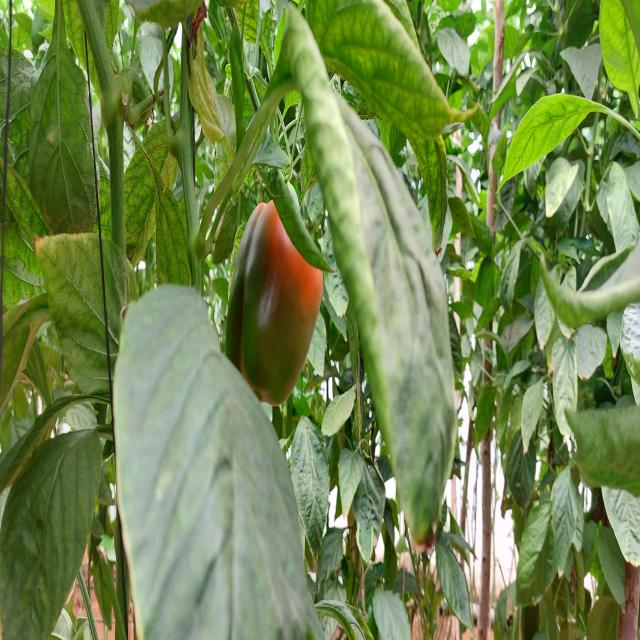BrownishRed--Can-be-Harvested: (227, 198, 319, 418)
